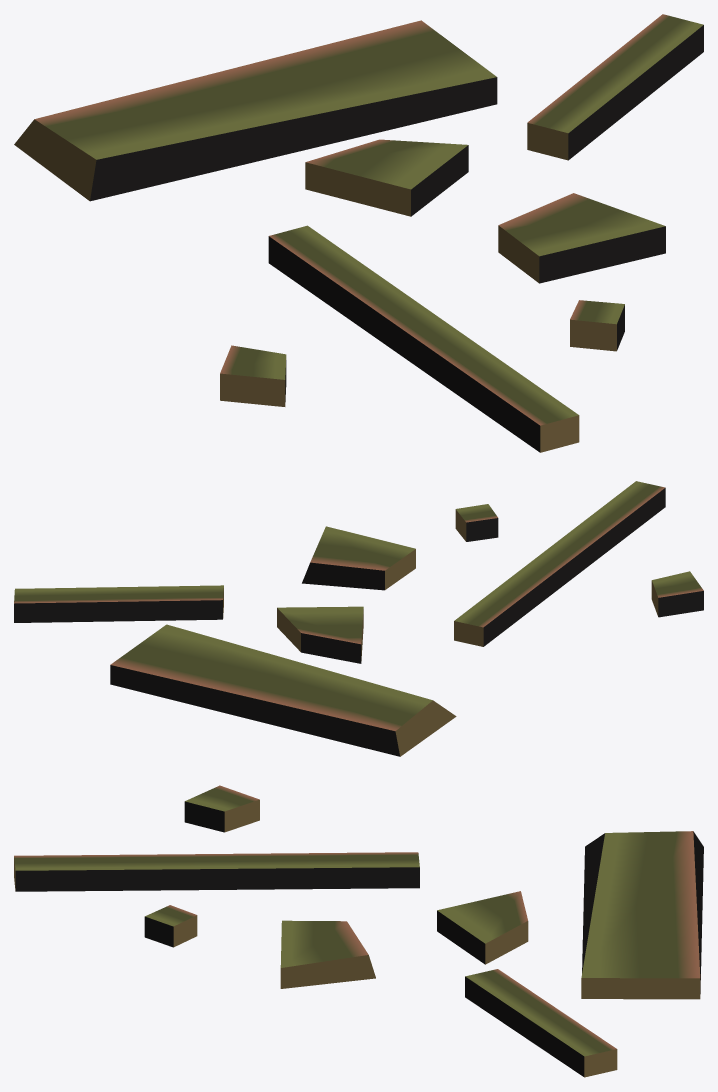
The model's file is rubble_03.gltf.
The picture shows the model from 3 angles, top to bottom: view 1: azimuth 30°, elevation 25°; view 2: azimuth 150°, elevation 25°; view 3: azimuth 270°, elevation 25°; orthographic projection. The views are drawn at different scales.
Visible parts, largest first — view 1: rubble_03; view 2: rubble_03; view 3: rubble_03.
Part boxes in pixels (x1=…): rubble_03: x1=14, y1=14, x2=703, y2=452; rubble_03: x1=14, y1=481, x2=703, y2=756; rubble_03: x1=14, y1=785, x2=703, y2=1077.
Size of the model in its own units: 7.35 by 0.2654 by 7.91.
Materials: 1 (1 with a texture image).
